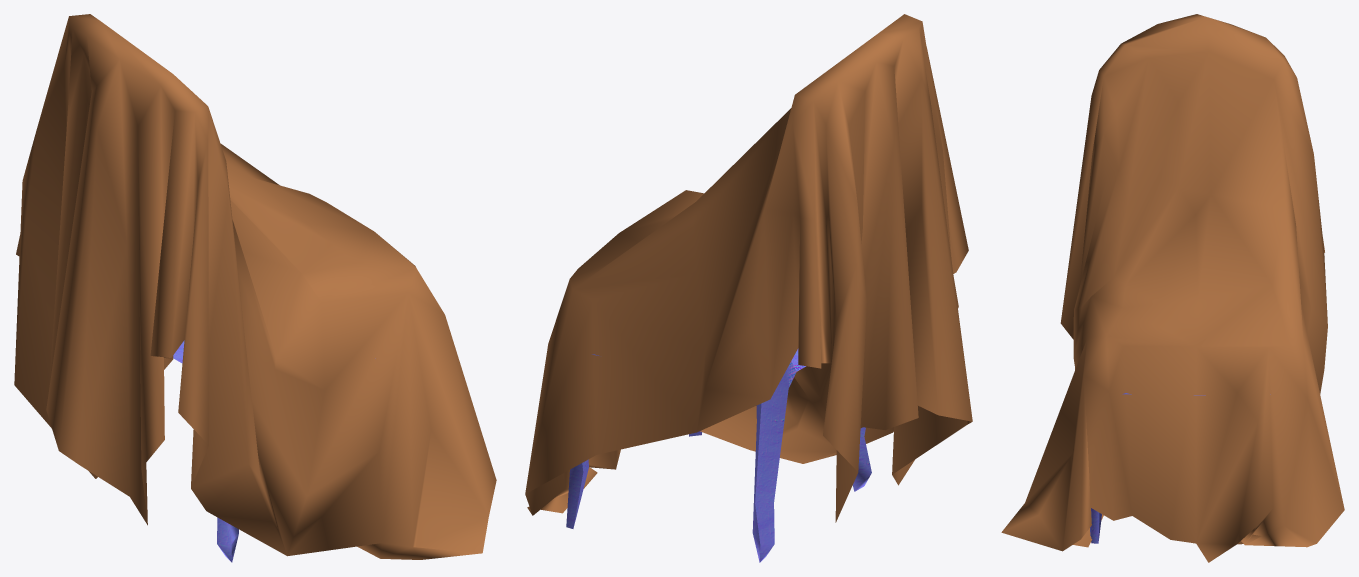
Rendered from SM_ChairCover_Lod2.fbx.
3 renders of one model, left to right at view 1: azimuth 30°, elevation 25°; view 2: azimuth 150°, elevation 25°; view 3: azimuth 270°, elevation 25°, orthographic. The views are drawn at different scales.
Visible parts, largest first — view 1: SM_ChairCover_Lod2; view 2: SM_ChairCover_Lod2; view 3: SM_ChairCover_Lod2.
Part boxes in pixels (x1,y1,x2,y2): SM_ChairCover_Lod2: (14,14,496,562); SM_ChairCover_Lod2: (525,14,972,562); SM_ChairCover_Lod2: (1001,14,1344,562).
Size of the model in its own units: 83 by 106 by 77.68.
